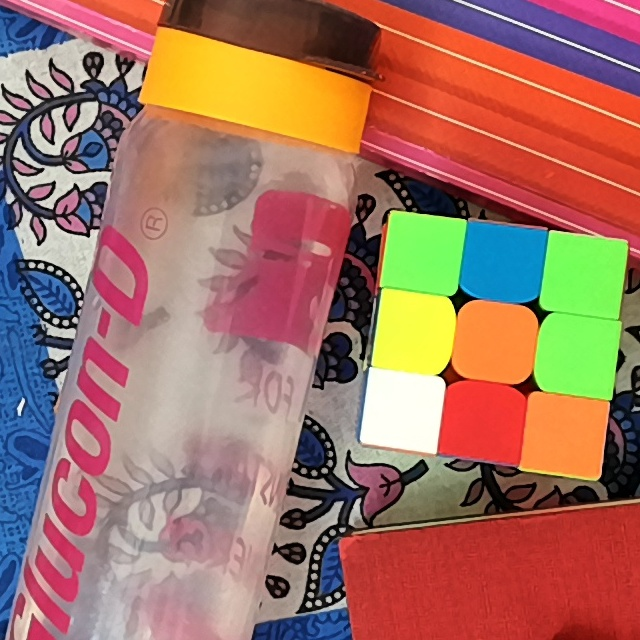tile: (552, 240, 618, 307), (390, 221, 453, 285), (463, 312, 527, 375), (450, 395, 518, 454), (471, 232, 535, 294), (383, 302, 445, 366), (533, 403, 598, 464), (546, 325, 608, 387), (377, 380, 435, 438)
